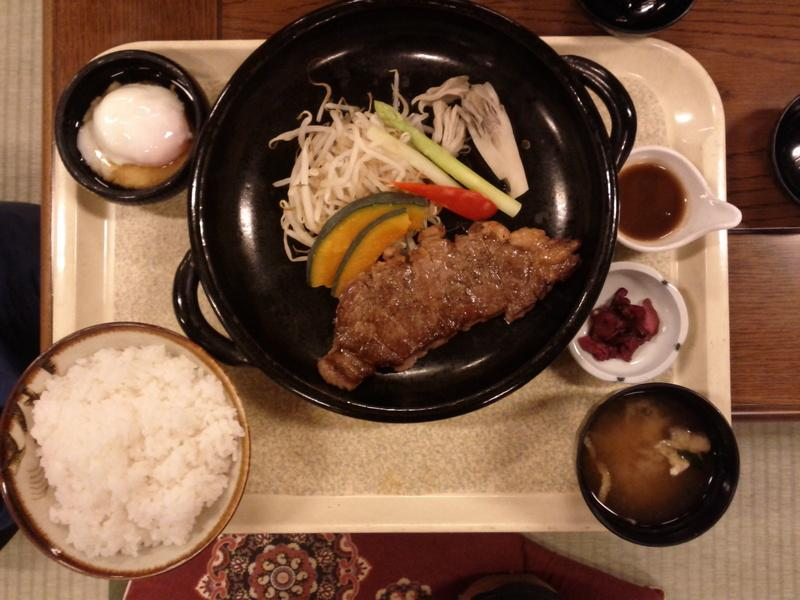rice: (31, 346, 245, 556)
